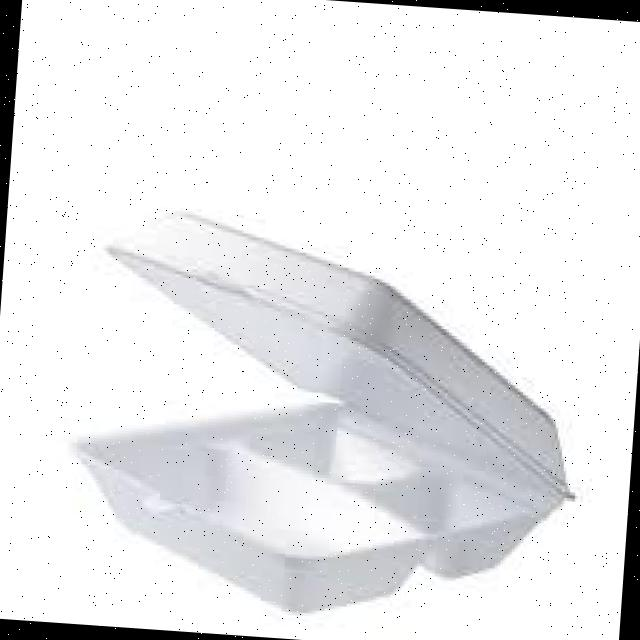styrofoam: (61, 194, 593, 630)
